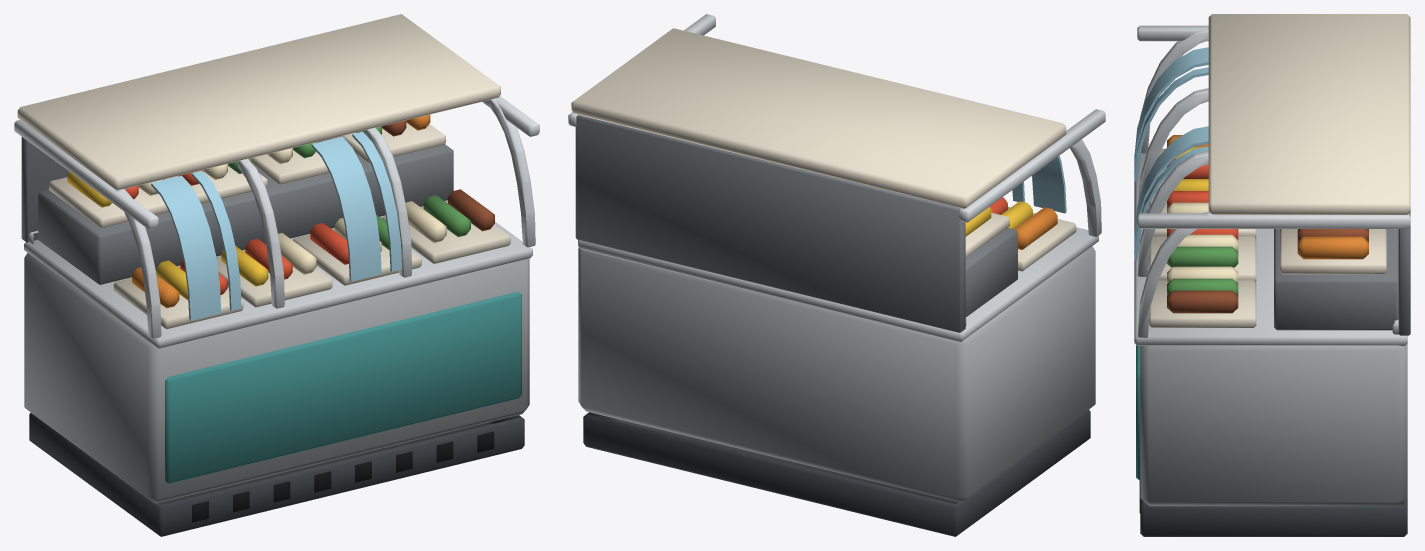
File: SM_DisplayCase_Deli_15.glb
3 renders of one model, left to right at view 1: azimuth 30°, elevation 25°; view 2: azimuth 150°, elevation 25°; view 3: azimuth 270°, elevation 25°, orthographic. The views are drawn at different scales.
Parts seen in each view (by area): view 1: SM_DisplayCase_Deli_15; view 2: SM_DisplayCase_Deli_15; view 3: SM_DisplayCase_Deli_15.
Part boxes in pixels (bbox=[...]): SM_DisplayCase_Deli_15: bbox=[14, 14, 539, 536]; SM_DisplayCase_Deli_15: bbox=[568, 14, 1105, 536]; SM_DisplayCase_Deli_15: bbox=[1134, 14, 1410, 536].
Bounding box in the file's own units: 1.54 × 1.26 × 0.93.
1 material, 1 textured.
